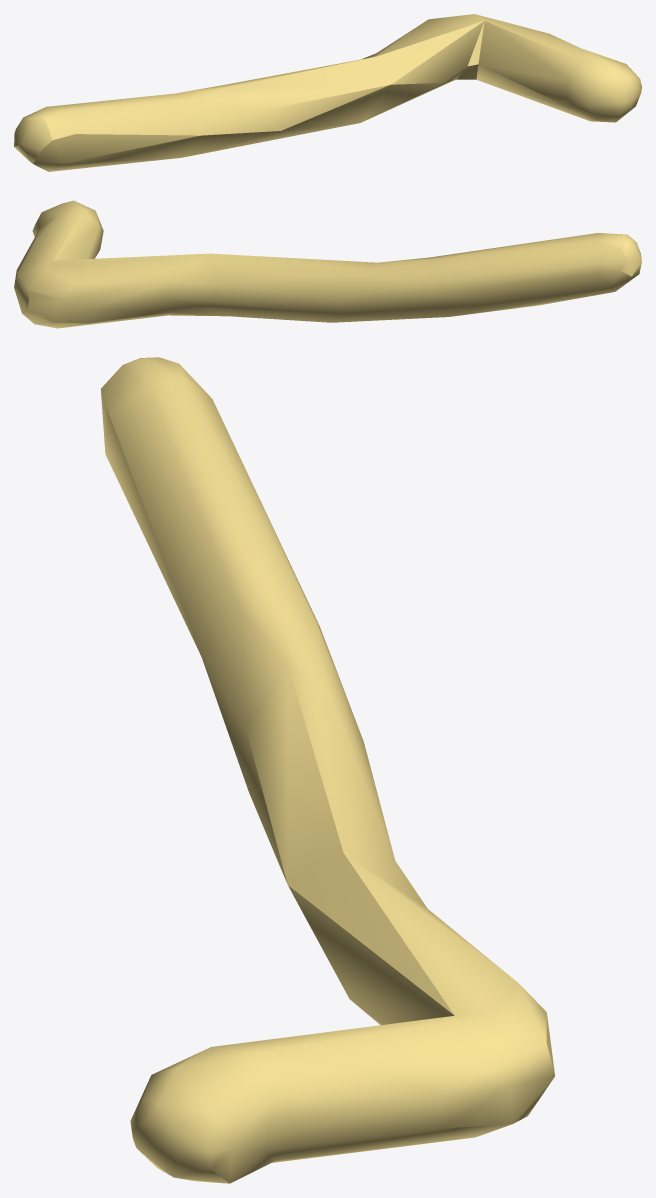
File: fma52716_fj1315.glb
The picture shows the model from 3 angles, top to bottom: view 1: azimuth 30°, elevation 25°; view 2: azimuth 150°, elevation 25°; view 3: azimuth 270°, elevation 25°; orthographic projection. The views are drawn at different scales.
Parts seen in each view (by area): view 1: FMA52716_FJ1315; view 2: FMA52716_FJ1315; view 3: FMA52716_FJ1315.
Boxes of the visible parts, x1,y1,x2,y2 form: FMA52716_FJ1315: (14,14,641,171); FMA52716_FJ1315: (14,200,641,328); FMA52716_FJ1315: (100,357,554,1183).
Size of the model in its own units: 0.00776 by 0.00185 by 0.00259.
